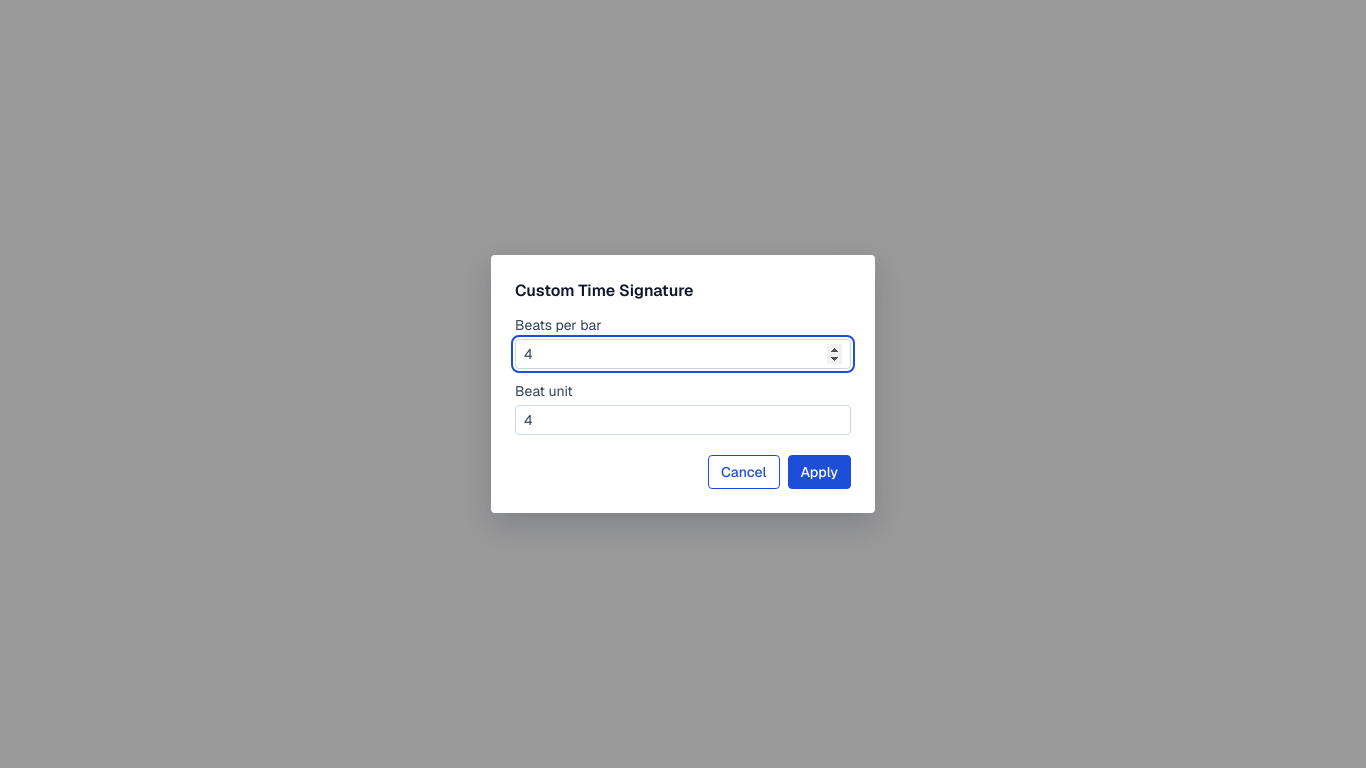
Test case: CommandFormDialog › surfaces a failure from the submitted command as a notice
The width and height of the screenshot is (1366, 768).
Click the button with test id "btn-timesig-custom". click: click(819, 472)
box: [788, 455, 851, 489]
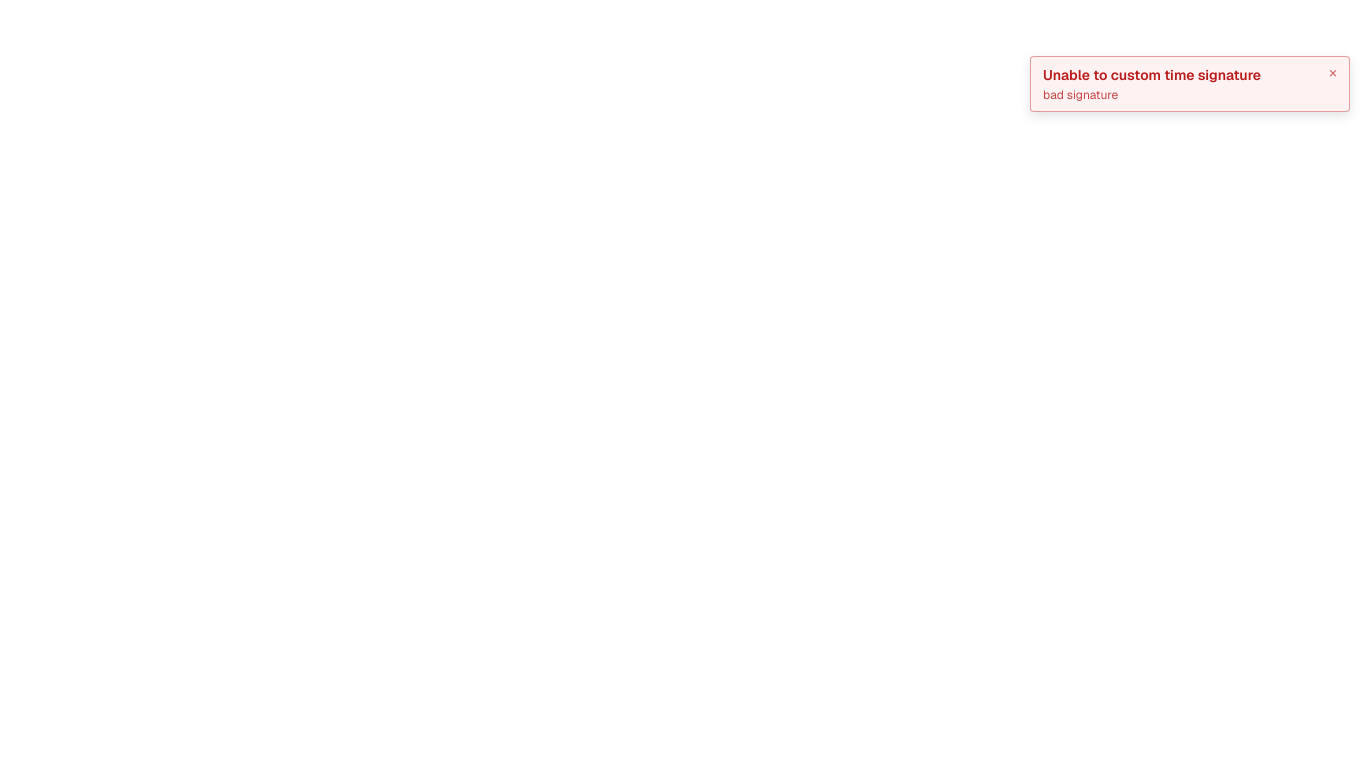
Expected: the message shows "bad signature", [1043, 87, 1118, 103]
